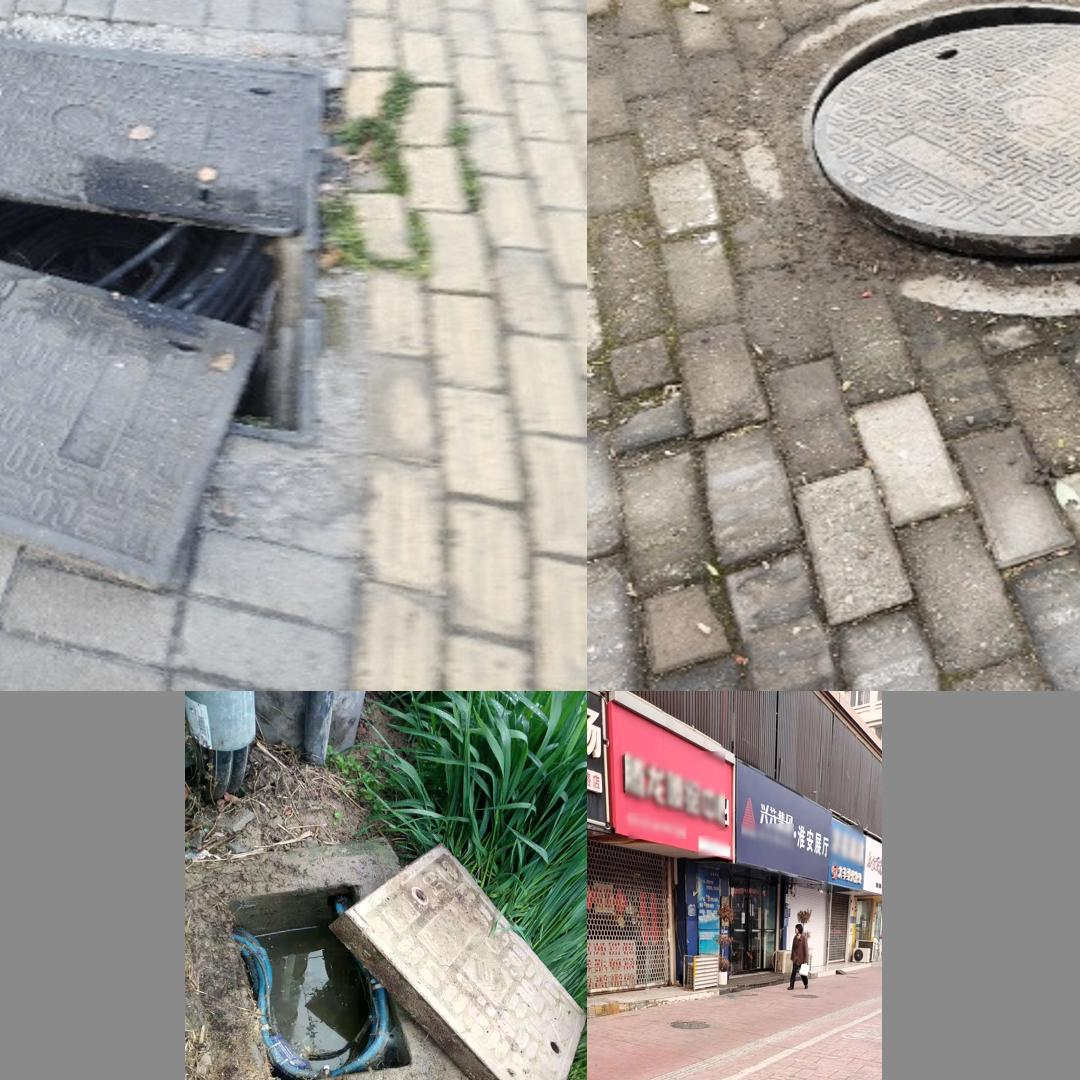uncovered: (0, 17, 328, 603), (762, 0, 1080, 315), (188, 837, 586, 1080)
